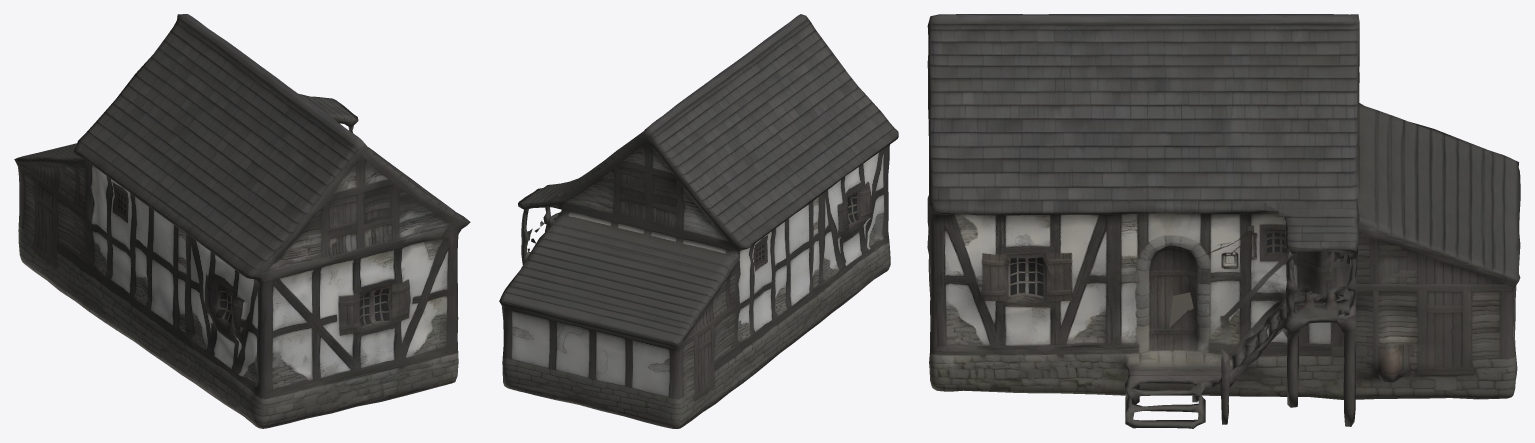
File: maison-b.glb
3 renders of one model, left to right at view 1: azimuth 30°, elevation 25°; view 2: azimuth 150°, elevation 25°; view 3: azimuth 270°, elevation 25°, orthographic. The views are drawn at different scales.
Visible parts, largest first — view 1: tripo_node_83fea547-a712-4b2a-8454-b11200cbe893; view 2: tripo_node_83fea547-a712-4b2a-8454-b11200cbe893; view 3: tripo_node_83fea547-a712-4b2a-8454-b11200cbe893.
Boxes of the visible parts, x1,y1,x2,y2 form: tripo_node_83fea547-a712-4b2a-8454-b11200cbe893: (14,14,470,428); tripo_node_83fea547-a712-4b2a-8454-b11200cbe893: (499,14,898,428); tripo_node_83fea547-a712-4b2a-8454-b11200cbe893: (927,14,1520,428).
Bounding box in the file's own units: 0.6058 × 0.5961 × 0.9692.
Materials: 1 (1 with a texture image).
